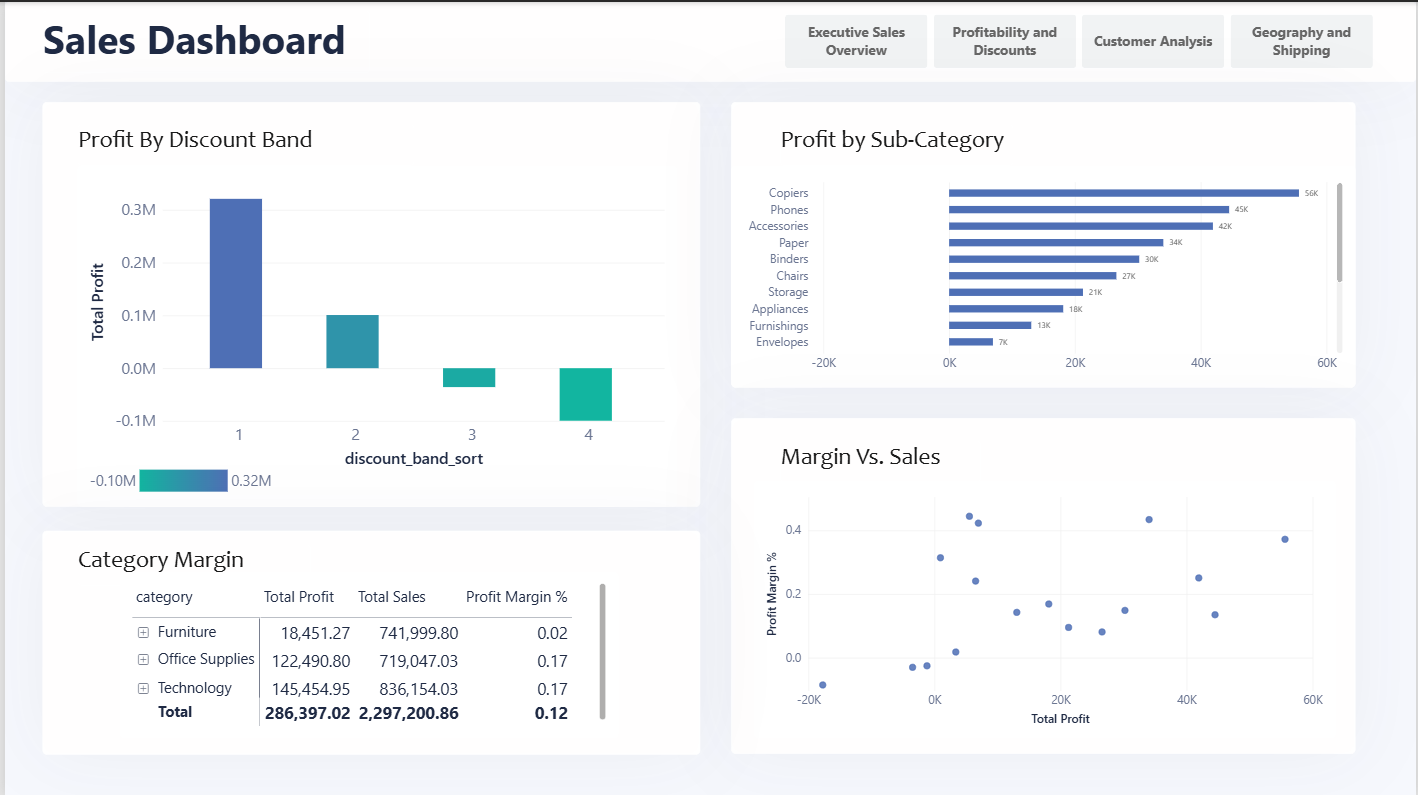

This screenshot's page, from the dashboard's own definition file:
{"tool":"powerbi","page":{"name":"Profitability and Discounts","canvas":[1920,1080],"ordinal":1},"visuals":[{"type":"shape","box":[0,0,1920.8,108.9],"z":0},{"type":"textbox","box":[51,11.9,445.7,85.1],"z":1000},{"type":"pageNavigator","box":[1062.2,17.4,800.6,73.3],"z":2000},{"type":"shape","box":[51,136.1,894.9,551.2],"z":19000},{"type":"textbox","box":[99.4,167.4,458.7,55.8],"z":20000},{"type":"clusteredColumnChart","fields":{"Category":["fact_sales.discount_band_sort"],"Y":["fact_sales.Total Profit"]},"box":[99.4,223.3,816.3,464],"z":21000},{"type":"shape","box":[989,136,849.4,389],"z":22000},{"type":"textbox","box":[1055.2,167.4,317.4,55.8],"z":23000},{"type":"barChart","fields":{"Category":["dim_product.sub_category"],"Y":["fact_sales.Total Profit"]},"box":[989,223.3,849.4,301.7],"z":24000},{"type":"shape","box":[989,566.9,849.4,457],"z":25000},{"type":"textbox","box":[1055.2,596.5,273.8,55.8],"z":26000},{"type":"scatterChart","fields":{"Category":["dim_product.sub_category"],"X":["fact_sales.Total Profit"],"Y":["fact_sales.Profit Margin %"]},"box":[1018.6,652.3,791.9,350.6],"z":27000},{"type":"shape","box":[51,719.7,894.9,304.5],"z":27001},{"type":"textbox","box":[98.7,738.4,317.4,55.8],"z":27002},{"type":"pivotTable","fields":{"Rows":["dim_product.category","dim_product.sub_category"],"Values":["fact_sales.Total Profit","fact_sales.Total Sales","fact_sales.Profit Margin %"]},"box":[157,776.2,678.5,226.7],"z":27003}]}

Visuals, with their boxes in screenshot pixels (x1, y1, x2, y2), scaled from the page's 1920x1080 canvas onto the 1418x795 screenshot:
shape: bbox(0, 0, 1417, 80)
textbox: bbox(38, 9, 367, 71)
pageNavigator: bbox(784, 13, 1376, 67)
shape: bbox(38, 100, 699, 506)
textbox: bbox(73, 123, 412, 164)
clusteredColumnChart - fact_sales.discount_band_sort x fact_sales.Total Profit: bbox(73, 164, 676, 506)
shape: bbox(730, 100, 1358, 386)
textbox: bbox(779, 123, 1014, 164)
barChart - dim_product.sub_category x fact_sales.Total Profit: bbox(730, 164, 1358, 386)
shape: bbox(730, 417, 1358, 754)
textbox: bbox(779, 439, 982, 480)
scatterChart - dim_product.sub_category x fact_sales.Total Profit: bbox(752, 480, 1337, 738)
shape: bbox(38, 530, 699, 754)
textbox: bbox(73, 544, 307, 585)
pivotTable - dim_product.category x dim_product.sub_category: bbox(116, 571, 617, 738)
